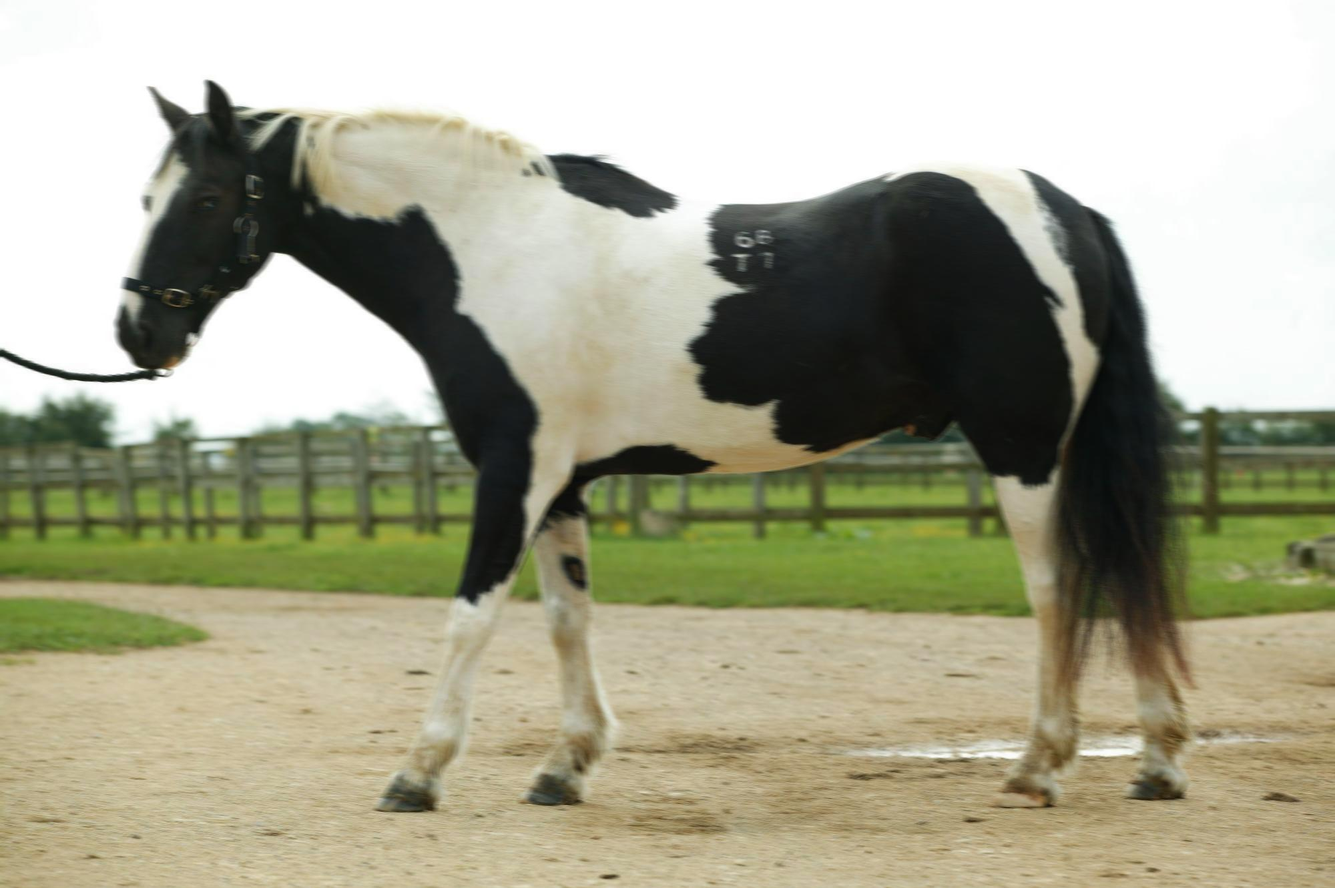horse: (103, 68, 1218, 824)
